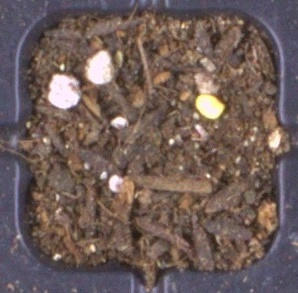chilli seed: (194, 93, 226, 120)
